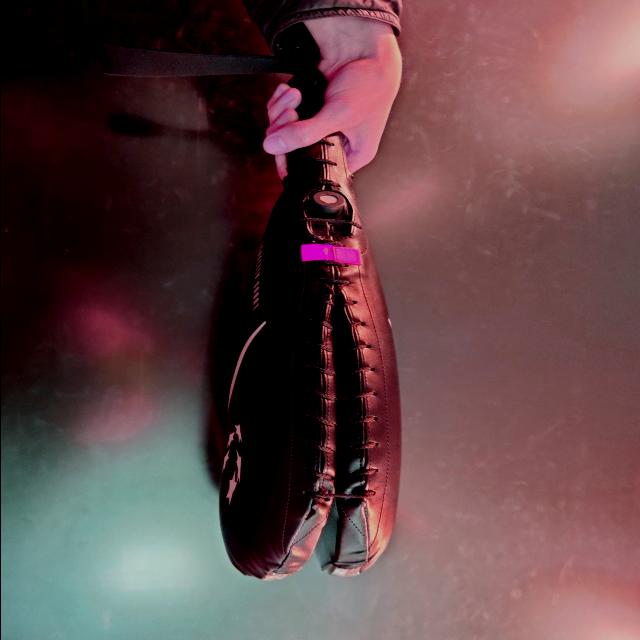paddle: (210, 137, 412, 587)
